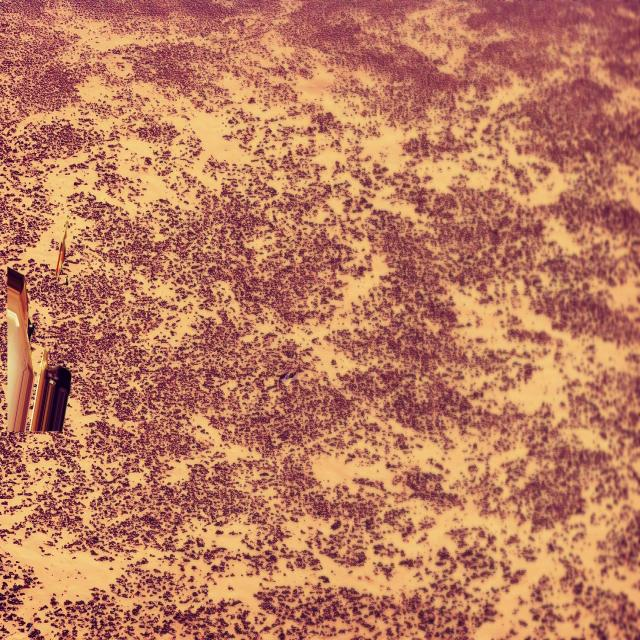airplane: (7, 266, 71, 433)
